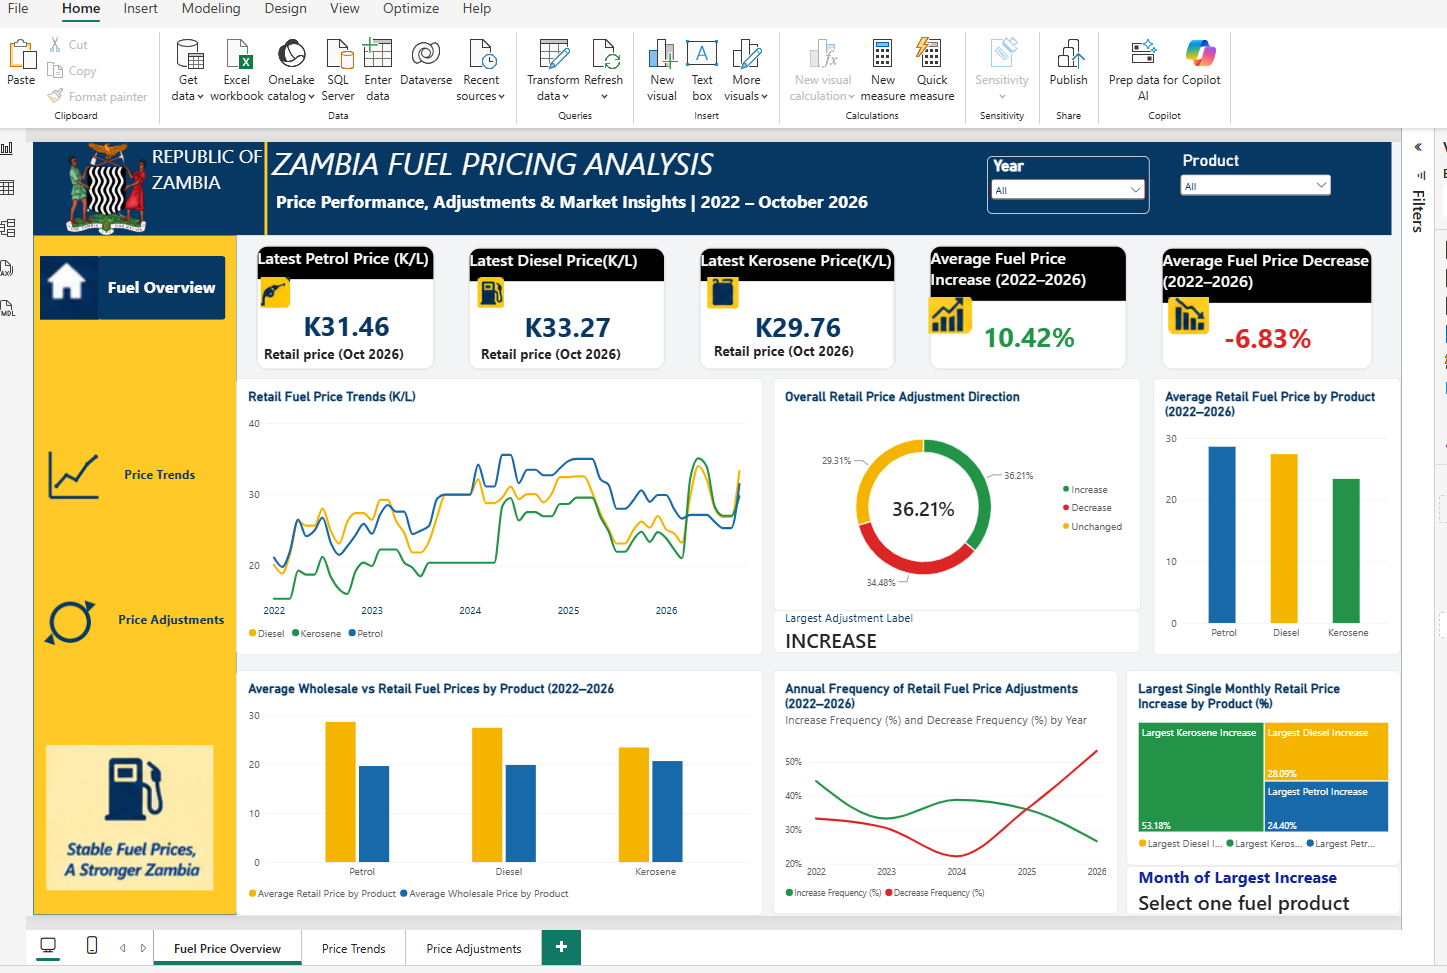

The page's visual inventory and layout, read from the dashboard file:
{"tool":"powerbi","page":{"name":"Fuel Price Overview","canvas":[1920,1080],"ordinal":0},"visuals":[{"type":"textbox","box":[334.1,0,1572.8,129.8],"z":0},{"type":"image","box":[10.2,0,204.3,129.8],"z":1000},{"type":"textbox","box":[10.2,199.9,242.2,94.8],"z":2000},{"type":"textbox","box":[176.5,0,157.6,129.8],"z":3000},{"type":"shape","box":[321,0,27.7,129.8],"z":4000},{"type":"textbox","box":[348.7,65.7,830.2,46.7],"z":5000},{"type":"shape","box":[10.2,129.8,284.5,949.8],"z":6000},{"type":"image","box":[19,159,81.7,89],"z":7000},{"type":"actionButton","box":[97.7,420.3,178,87.5],"z":8000},{"type":"image","box":[9.8,420.3,112.3,87.5],"z":9000},{"type":"actionButton","box":[111.7,628.4,182.4,74.4],"z":12000},{"type":"image","box":[10.2,841.8,268.4,202.8],"z":13000},{"type":"image","box":[0,628.4,121.1,86.1],"z":15000},{"type":"actionButton","box":[100.7,159,178,89],"z":17000},{"type":"cardVisual","title":"Latest Petrol Price (K/L)","fields":{"Data":["_Measures.Latest Petrol Price"]},"box":[320.5,144.1,250.5,175.1],"z":18000},{"type":"cardVisual","title":"Latest Kerosene Price(K/L)","fields":{"Data":["_Measures.Latest Kerosene Price"]},"box":[940,146.8,274.7,172.4],"z":19000},{"type":"cardVisual","title":"Latest Diesel Price(K/L)","fields":{"Data":["_Measures.Latest Diesel Price"]},"box":[617.4,146.8,276.1,172.4],"z":20000},{"type":"cardVisual","title":"Average Fuel Price Increase (2022–2026)","fields":{"Data":["_Measures.Average Increase (%)"]},"box":[1261.1,144.1,277.4,175.1],"z":21000},{"type":"cardVisual","title":"Average Fuel Price Decrease (2022–2026)","fields":{"Data":["_Measures.Average Decrease (%)"]},"box":[1585,146.8,296.3,172.4],"z":22000},{"type":"textbox","box":[332.6,284.1,228.9,35],"z":23000},{"type":"textbox","box":[635.6,284.1,211.4,35],"z":24000},{"type":"textbox","box":[960.1,278.8,208.7,29.6],"z":25000},{"type":"donutChart","title":"Overall Retail Price Adjustment Direction","fields":{"Category":["Retail Adjustment Summary.Direction"],"Y":["_Measures.Retail Adjustment Count"]},"box":[1043.7,329,514.4,325.2],"z":26000},{"type":"cardVisual","fields":{"Data":["_Measures.Largest Adjustment Label"]},"box":[1043.7,653.7,512.8,61],"z":27000},{"type":"clusteredColumnChart","title":"Average Retail Fuel Price by Product (2022–2026)","fields":{"Category":["Fuel Products.Product"],"Y":["_Measures.Average Fuel Price by Product"]},"box":[1574,329,346,387.1],"z":28000},{"type":"clusteredColumnChart","title":"Average Wholesale vs Retail Fuel Prices by Product (2022–2026","fields":{"Category":["Fuel Products.Product"],"Y":["_Measures.Average Retail Price by Product","_Measures.Average Wholesale Price by Product"]},"box":[293.5,737.4,736,343.2],"z":29000},{"type":"treemap","title":"Largest Single Monthly Retail Price Increase by Product (%)","fields":{"Values":["_Measures.Largest Diesel Increase (%)","_Measures.Largest Kerosene Increase (%)","_Measures.Largest Petrol Increase (%)"]},"box":[1536.5,738,383.8,273.4],"z":30000},{"type":"lineChart","title":"Annual Frequency of Retail Fuel Price Adjustments (2022–2026)","fields":{"Category":["Retail Adjustment Summary.Year"],"Y":["_Measures.Increase Frequency (%)","_Measures.Decrease Frequency (%)"]},"box":[1043.6,738,482.1,340.7],"z":31000},{"type":"image","box":[306.3,188.6,85.1,42.5],"z":32000},{"type":"image","box":[606.9,188.6,82.2,42.5],"z":33000},{"type":"image","box":[927.4,188.6,92.2,44],"z":34000},{"type":"image","box":[1257.8,217,65.2,51],"z":35000},{"type":"image","box":[1585.3,217,76.6,52.5],"z":36000},{"type":"slicer","title":"YEAR","fields":{"Values":["Date Table.Year"]},"box":[1341.9,19.7,226.9,80.8],"z":37000,"group":"g1"},{"type":"lineChart","title":"Retail Fuel Price Trends (K/L)","fields":{"Category":["Date Table.Date.Variation.Date Hierarchy.Year","Date Table.Date.Variation.Date Hierarchy.Month"],"Y":["_Measures.Diesel Trend","_Measures.Kerosene Trend","_Measures.Petrol Trend"]},"box":[293.5,329,736,387.1],"z":37000},{"type":"slicer","fields":{"Values":["Fuel Products.Product"]},"box":[1607.1,12.6,219.8,87.9],"z":38000,"group":"g1"},{"type":"cardVisual","fields":{"Data":["_Measures.Month of Largest Increase"]},"box":[1536.5,1011.3,383.8,68.7],"z":38000},{"type":"group","id":"g1","title":"Group 1","box":[1341.9,12.6,485.9,88],"z":39000}]}

Visuals, with their boxes on the page's 1920x1080 design canvas (x1, y1, x2, y2). These are canvas units, not pixel positions in the 1447x973 screenshot, which may show the page scaled, cropped or inside an application window:
textbox: box(334, 0, 1907, 130)
image: box(10, 0, 214, 130)
textbox: box(10, 200, 252, 295)
textbox: box(176, 0, 334, 130)
shape: box(321, 0, 349, 130)
textbox: box(349, 66, 1179, 112)
shape: box(10, 130, 295, 1080)
image: box(19, 159, 101, 248)
actionButton: box(98, 420, 276, 508)
image: box(10, 420, 122, 508)
actionButton: box(112, 628, 294, 703)
image: box(10, 842, 279, 1045)
image: box(0, 628, 121, 714)
actionButton: box(101, 159, 279, 248)
"Latest Petrol Price (K/L)" cardVisual: box(320, 144, 571, 319)
"Latest Kerosene Price(K/L)" cardVisual: box(940, 147, 1215, 319)
"Latest Diesel Price(K/L)" cardVisual: box(617, 147, 894, 319)
"Average Fuel Price Increase (2022–2026)" cardVisual: box(1261, 144, 1538, 319)
"Average Fuel Price Decrease (2022–2026)" cardVisual: box(1585, 147, 1881, 319)
textbox: box(333, 284, 562, 319)
textbox: box(636, 284, 847, 319)
textbox: box(960, 279, 1169, 308)
"Overall Retail Price Adjustment Direction" donutChart: box(1044, 329, 1558, 654)
cardVisual - _Measures.Largest Adjustment Label: box(1044, 654, 1556, 715)
"Average Retail Fuel Price by Product (2022–2026)" clusteredColumnChart: box(1574, 329, 1920, 716)
"Average Wholesale vs Retail Fuel Prices by Product (2022–2026" clusteredColumnChart: box(294, 737, 1030, 1081)
"Largest Single Monthly Retail Price Increase by Product (%)" treemap: box(1536, 738, 1920, 1011)
"Annual Frequency of Retail Fuel Price Adjustments (2022–2026)" lineChart: box(1044, 738, 1526, 1079)
image: box(306, 189, 391, 231)
image: box(607, 189, 689, 231)
image: box(927, 189, 1020, 233)
image: box(1258, 217, 1323, 268)
image: box(1585, 217, 1662, 270)
"YEAR" slicer: box(1342, 20, 1569, 100)
"Retail Fuel Price Trends (K/L)" lineChart: box(294, 329, 1030, 716)
slicer - Fuel Products.Product: box(1607, 13, 1827, 100)
cardVisual - _Measures.Month of Largest Increase: box(1536, 1011, 1920, 1080)
"Group 1" group: box(1342, 13, 1828, 101)
